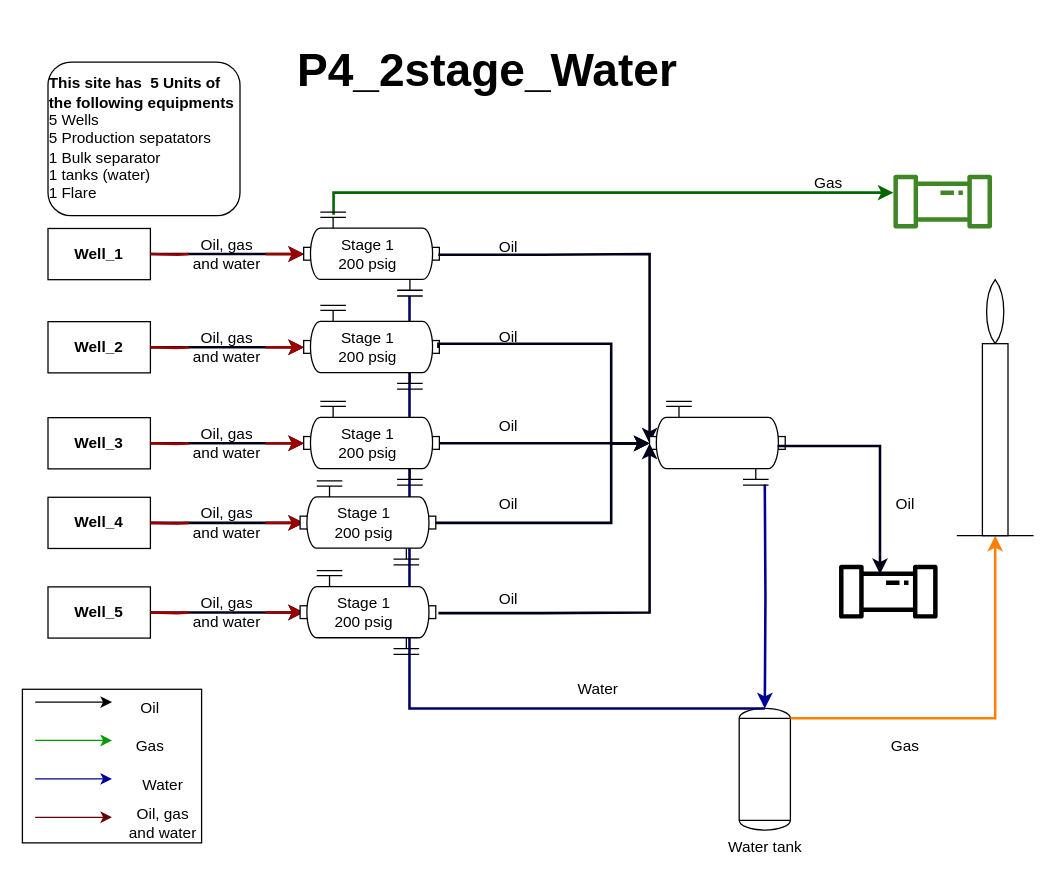
The diagram is 1056 pixels wide and 878 high, and some of its shapes have lost their labels. Each missing label, with the centre of its shape:
"Flare" belongs at pixel 995 407.
"Oil Pipeline" belongs at pixel 888 591.
"Pipeline" belongs at pixel 942 201.
"Stage 2 25 psig" belongs at pixel 716 442.
